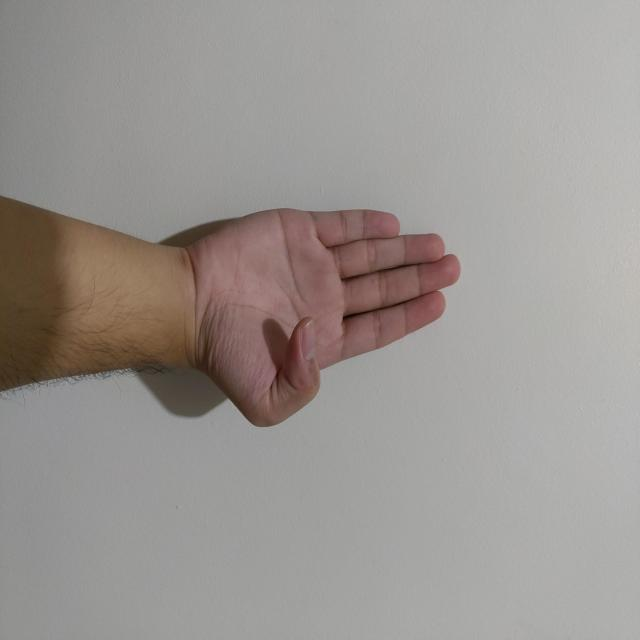B: (206, 180, 429, 456)
